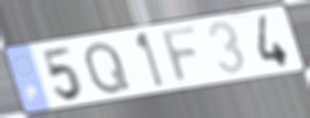1: (133, 29, 168, 90)
3: (206, 18, 251, 78)
4: (257, 13, 292, 70)
5: (37, 43, 86, 104)
F: (158, 22, 202, 87)
Q: (82, 39, 134, 97)
